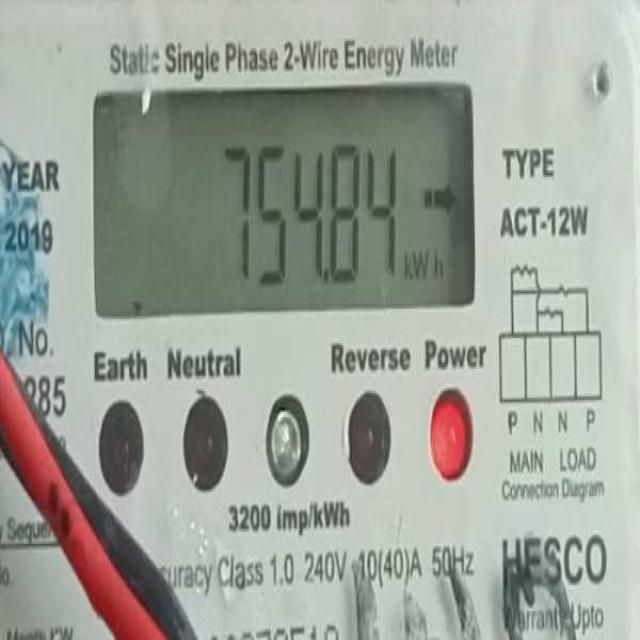1: (94, 95, 476, 307)
4: (289, 131, 325, 284), (364, 141, 403, 281)
5: (255, 124, 294, 293)
7: (212, 125, 256, 296)
8: (328, 133, 368, 289)
point: (321, 264, 334, 290)
